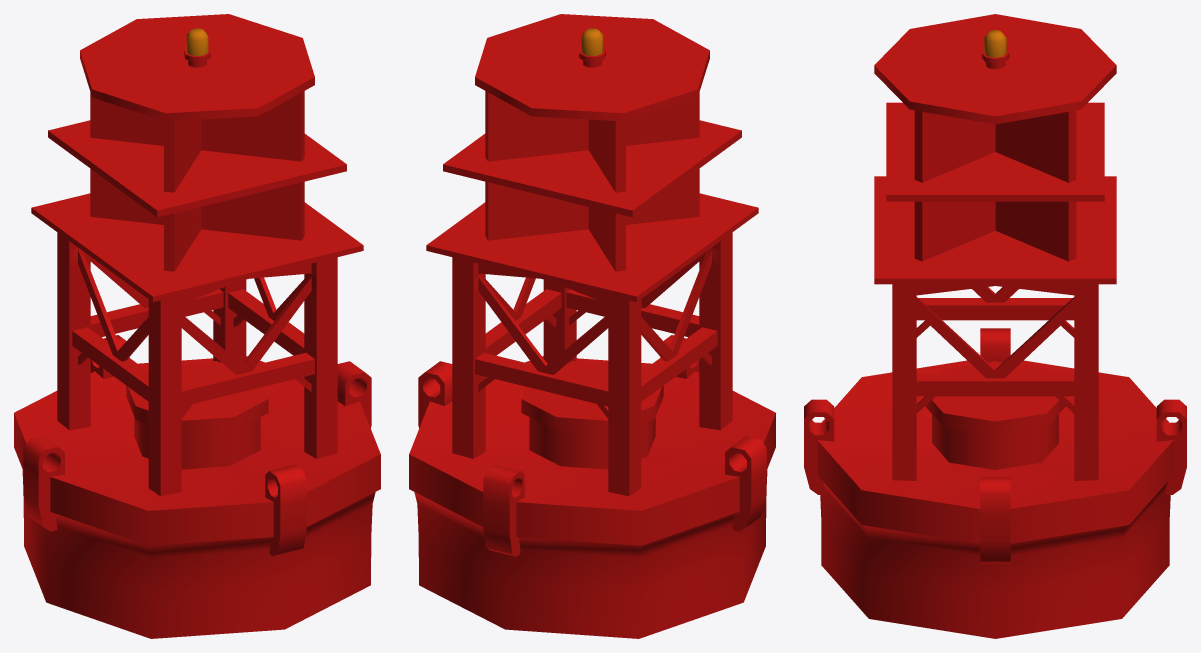
Rendered from buoy.obj.
The picture shows the model from 3 angles, left to right: view 1: azimuth 30°, elevation 25°; view 2: azimuth 150°, elevation 25°; view 3: azimuth 270°, elevation 25°; orthographic projection.
Parts seen in each view (by area): view 1: Body, Support, Top, Hooks; view 2: Body, Support, Top, Hooks; view 3: Body, Top, Support, Hooks.
Part boxes in pixels (x1,y1,x2,y2): Body: (14,356,380,638); Support: (31,193,363,496); Top: (48,14,346,271); Hooks: (23,335,371,556); Body: (409,356,775,638); Support: (426,193,758,496); Top: (443,14,741,271); Hooks: (418,335,766,556); Body: (817,360,1173,638); Top: (874,14,1116,261); Support: (874,176,1116,480); Hooks: (804,328,1186,563).
Bounding box in the file's own units: 3.16 × 4.85 × 3.16.
